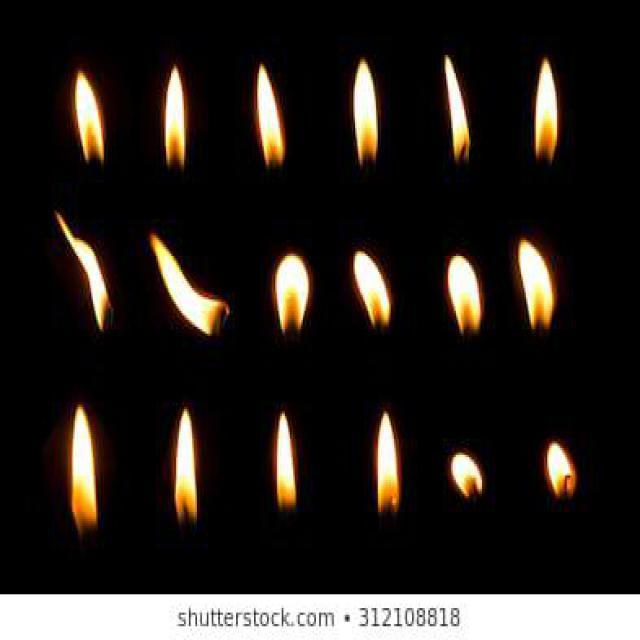Fire: (148, 234, 230, 342), (52, 207, 111, 335), (72, 404, 98, 546), (518, 238, 556, 334), (72, 67, 106, 166), (444, 54, 472, 168), (274, 254, 310, 340), (256, 66, 286, 169), (353, 252, 391, 330), (173, 411, 198, 528), (448, 254, 482, 336), (534, 61, 559, 170), (353, 59, 378, 167), (162, 68, 185, 172), (378, 412, 400, 514), (276, 410, 296, 516), (546, 441, 576, 503), (450, 454, 483, 500)
